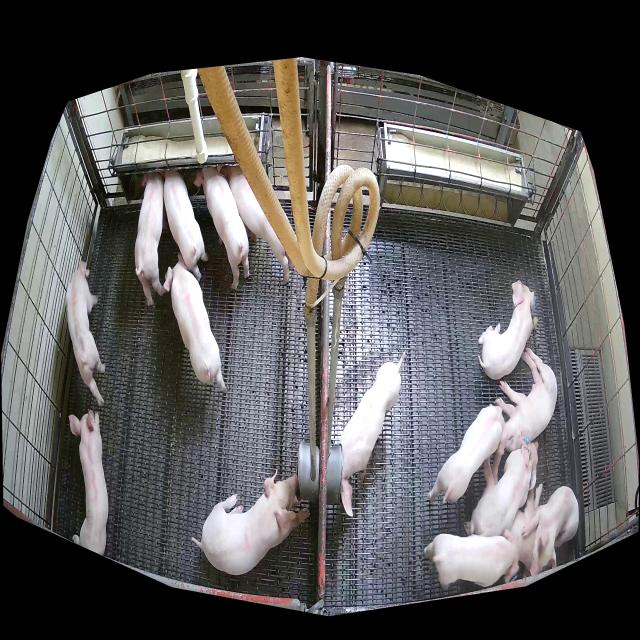pig: (192, 469, 310, 575), (340, 355, 405, 515), (163, 253, 226, 391), (219, 166, 288, 284), (427, 404, 508, 503), (464, 441, 539, 537), (195, 167, 250, 290), (496, 348, 558, 451), (424, 529, 520, 591), (478, 281, 538, 379), (69, 408, 108, 555), (158, 170, 209, 282), (66, 261, 105, 406), (522, 486, 578, 575), (134, 172, 165, 306), (511, 484, 543, 568)
